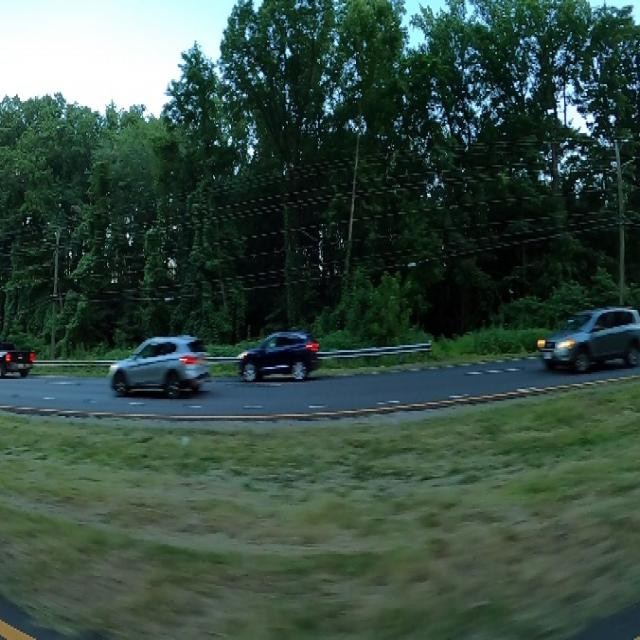car: (105, 327, 214, 406), (532, 300, 640, 376), (230, 322, 322, 386), (0, 330, 40, 379)
